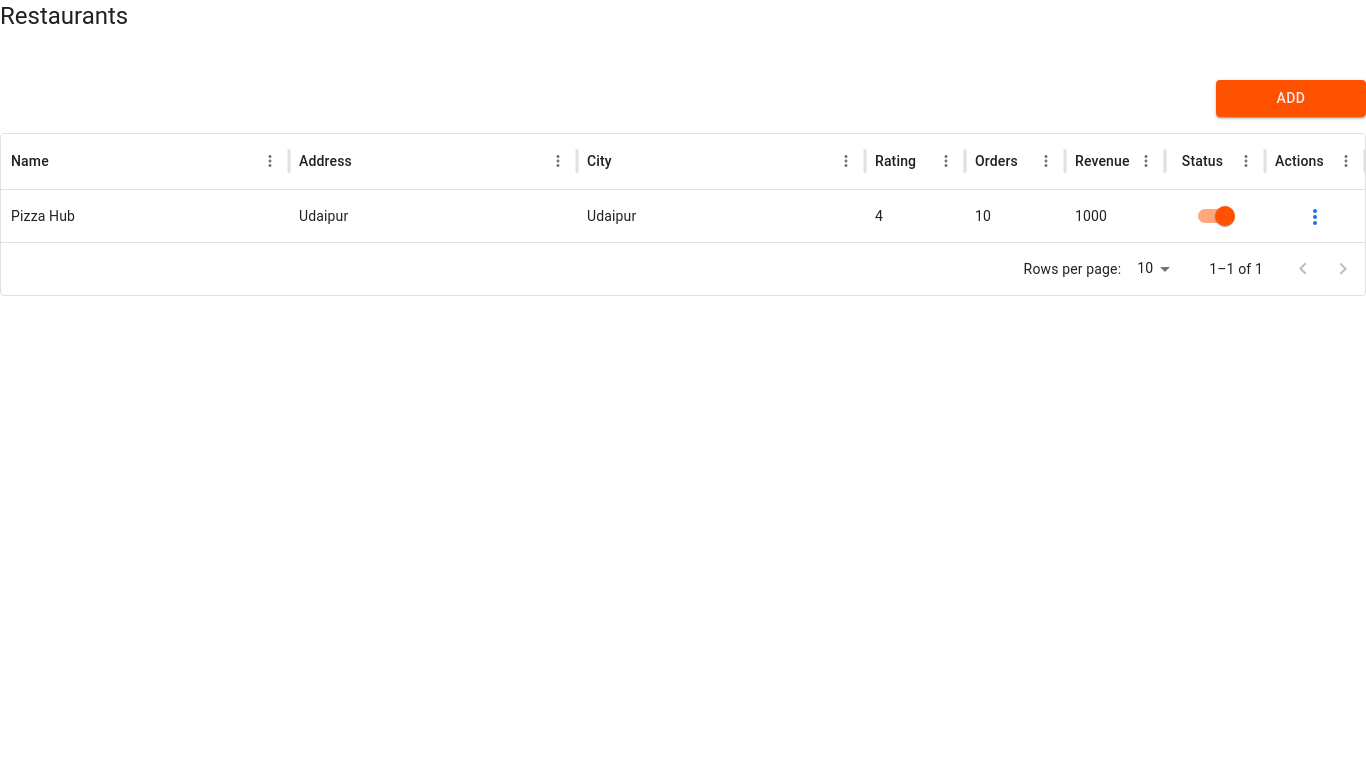
Add Restaurant Flow (super_admin) › opens add restaurant dialog on Add button click
Click the button with test id "add-restaurant-button". click: (1291, 98)
box: [1216,80,1365,116]
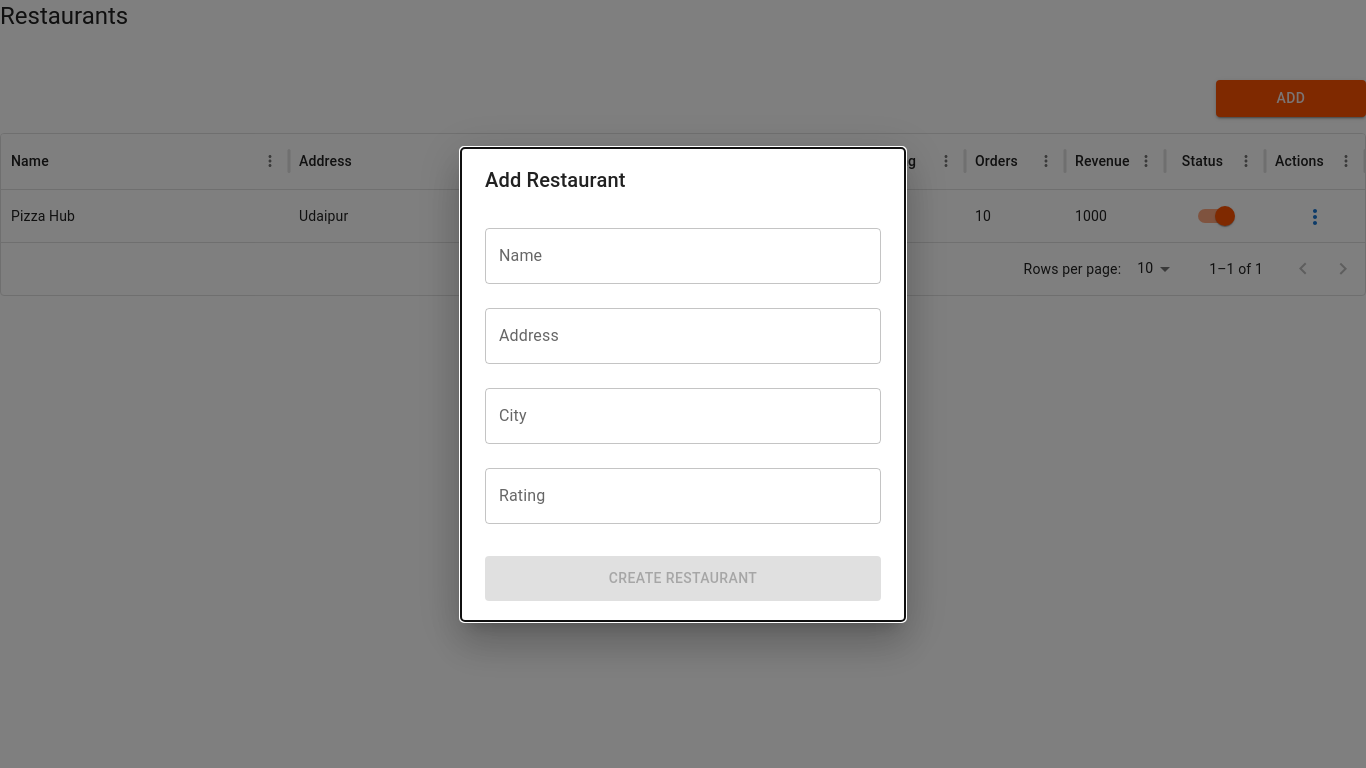
Check: the element with test id "restaurant-add-dialog" is shown
